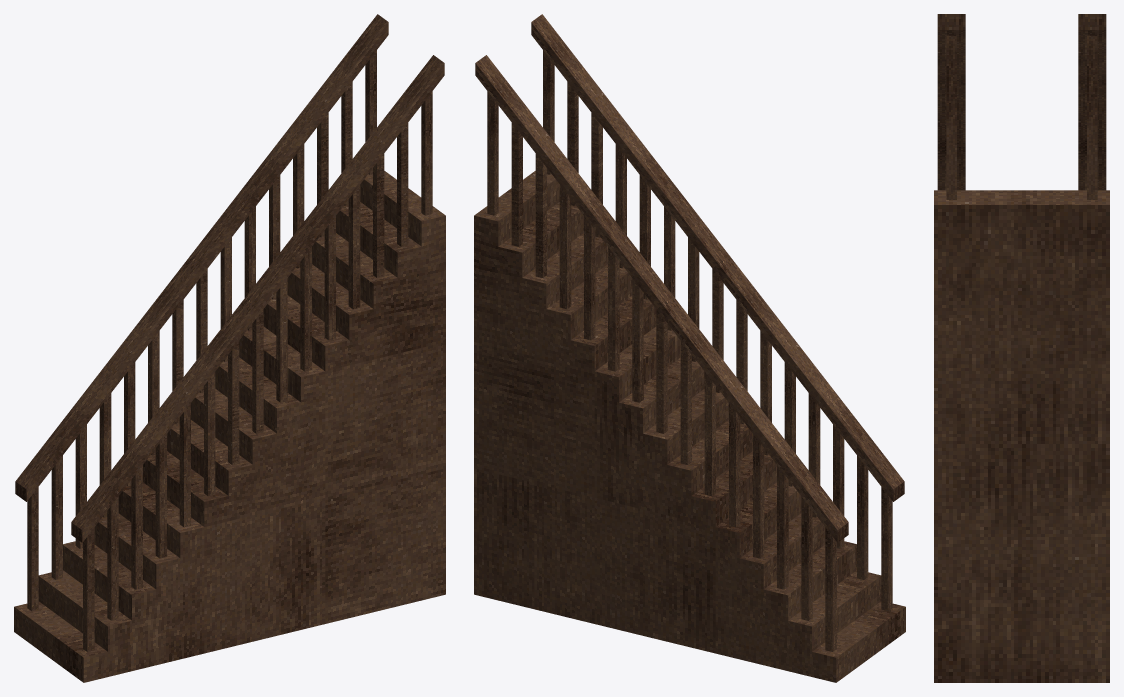
File: stair_big_02.glb
The picture shows the model from 3 angles, left to right: view 1: azimuth 30°, elevation 25°; view 2: azimuth 150°, elevation 25°; view 3: azimuth 270°, elevation 25°; orthographic projection. The views are drawn at different scales.
Visible parts, largest first — view 1: stair_big_022, railing_stair_03_R_001, railing_stair_03_L_001; view 2: stair_big_022, railing_stair_03_L_001, railing_stair_03_R_001; view 3: stair_big_022, railing_stair_03_L_001, railing_stair_03_R_001.
Part boxes in pixels (bbox=[...]): stair_big_022: bbox=[14, 171, 445, 682]; railing_stair_03_R_001: bbox=[71, 55, 444, 651]; railing_stair_03_L_001: bbox=[15, 14, 388, 611]; stair_big_022: bbox=[474, 171, 905, 682]; railing_stair_03_L_001: bbox=[475, 55, 848, 651]; railing_stair_03_R_001: bbox=[531, 14, 904, 611]; stair_big_022: bbox=[934, 190, 1109, 682]; railing_stair_03_L_001: bbox=[1078, 14, 1106, 199]; railing_stair_03_R_001: bbox=[937, 14, 965, 199].
Bounding box in the file's own units: 3 × 4.2 × 1.
Materials: 3 (3 with a texture image).
